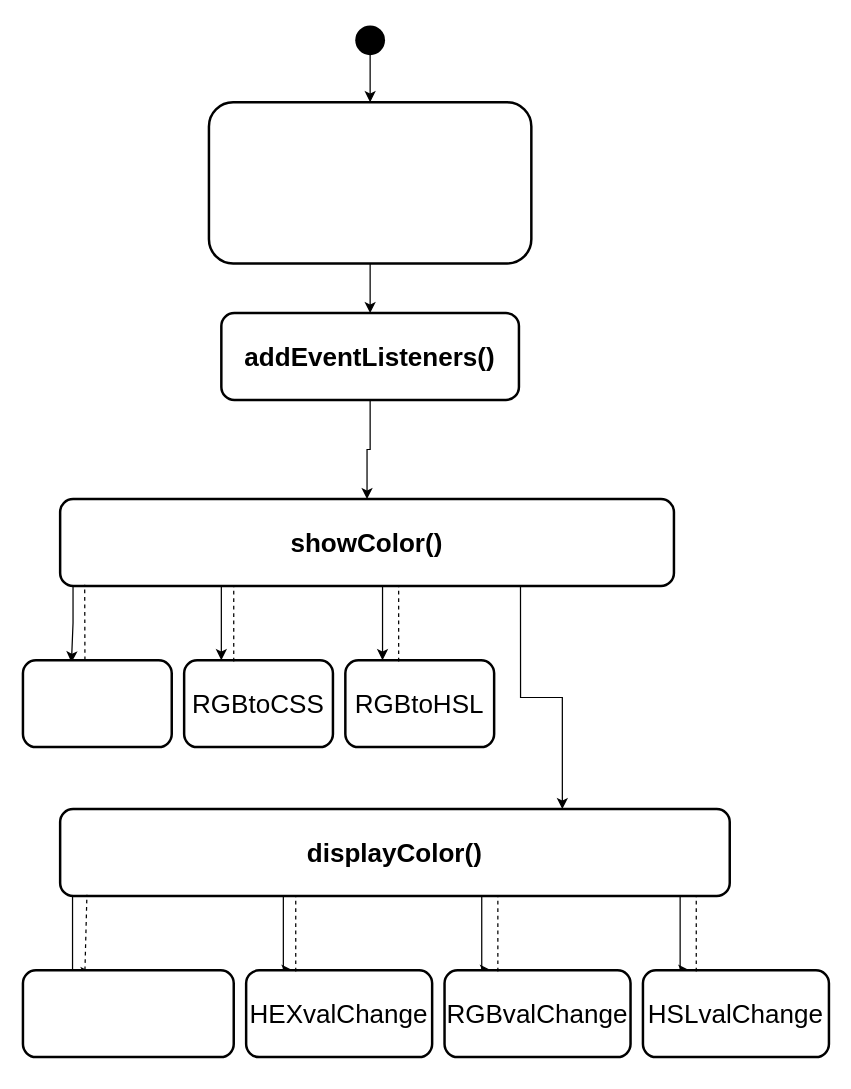
Image size: 851x1089. Some labels were removed from this diagram. The shapes that lost their labels are listed below. From the top down, each one's box as (x1, y1, x2, y2) in pixels, then its label:
(207, 100, 532, 264): init() addEventListeners()
(21, 658, 172, 748): HEXtoRGB
(21, 968, 234, 1058): boxColorChange
